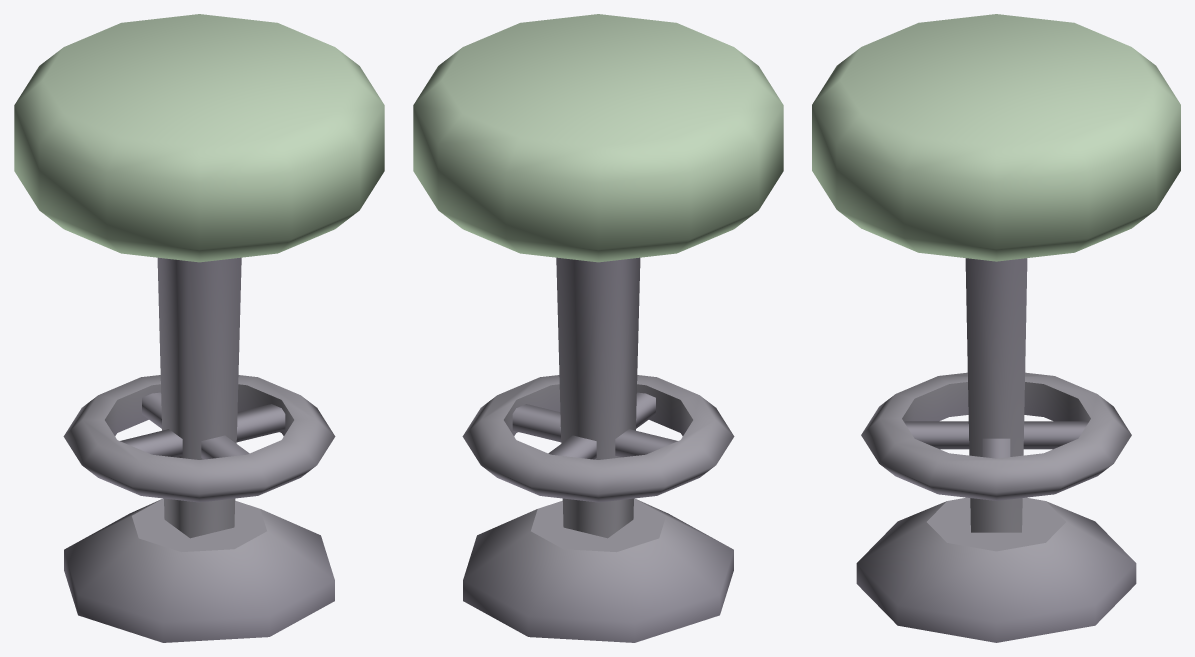
File: bar-stool-round-support (%secret).glb
The picture shows the model from 3 angles, left to right: view 1: azimuth 30°, elevation 25°; view 2: azimuth 150°, elevation 25°; view 3: azimuth 270°, elevation 25°; orthographic projection.
Parts seen in each view (by area): view 1: bar-stool-round-support (%secret); view 2: bar-stool-round-support (%secret); view 3: bar-stool-round-support (%secret).
Part boxes in pixels (bbox=[...]): bar-stool-round-support (%secret): bbox=[14, 14, 384, 642]; bar-stool-round-support (%secret): bbox=[413, 14, 783, 642]; bar-stool-round-support (%secret): bbox=[812, 14, 1180, 642].
Size of the model in its own units: 0.4047 by 0.61 by 0.4047.
